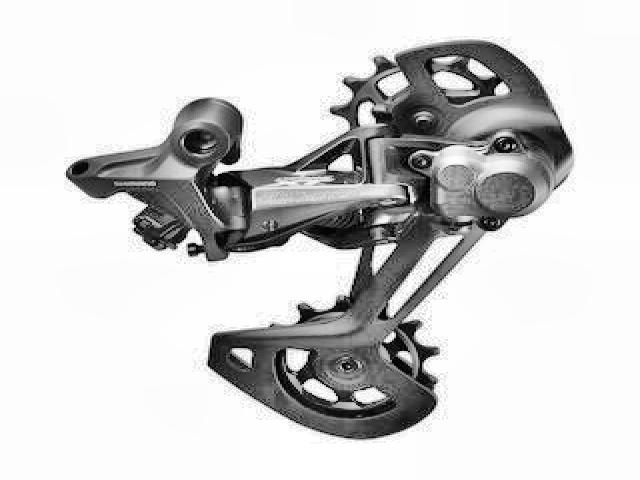rear_derailleur: (65, 35, 580, 445)
